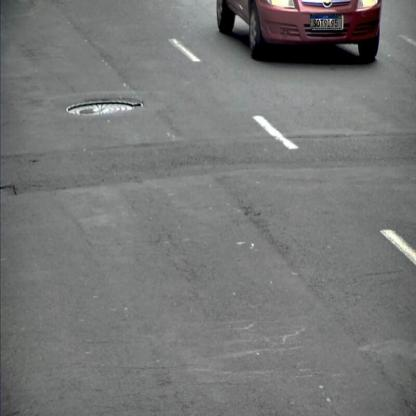PlacaM: (310, 15, 342, 29)
